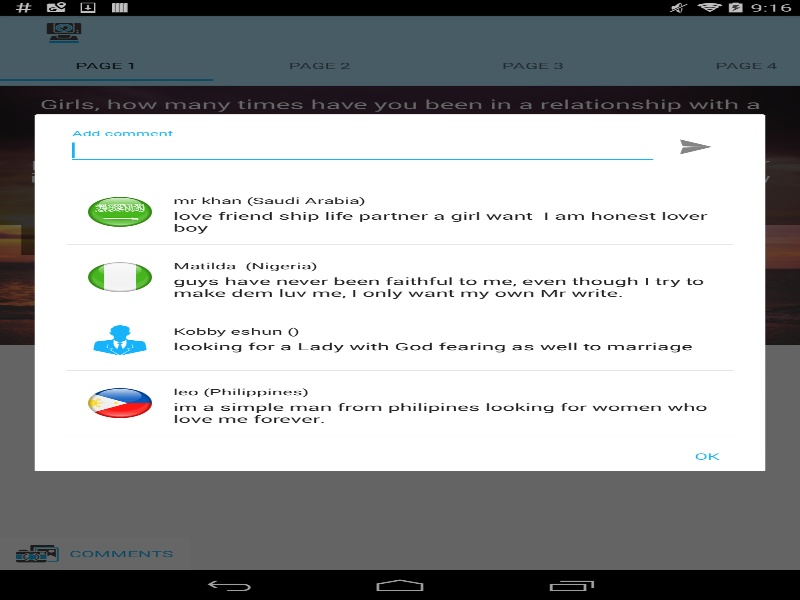Button: (648, 441, 765, 471), (658, 131, 733, 161)
Input: (66, 136, 658, 164)
